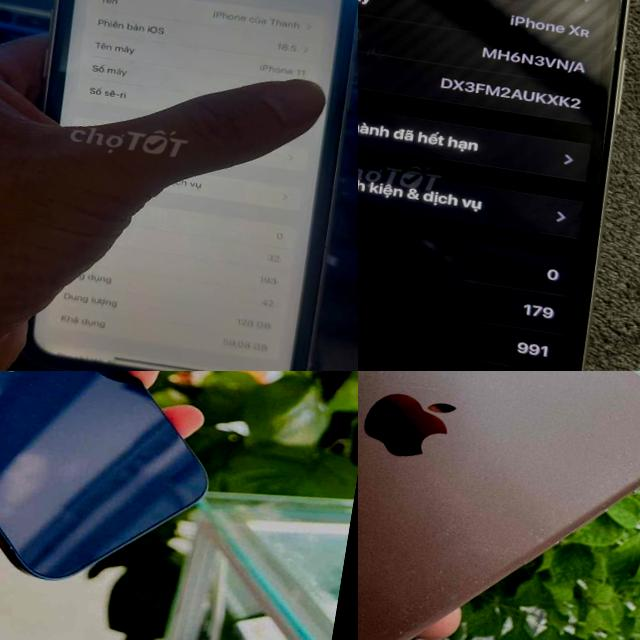scratch: (358, 548, 463, 640)
